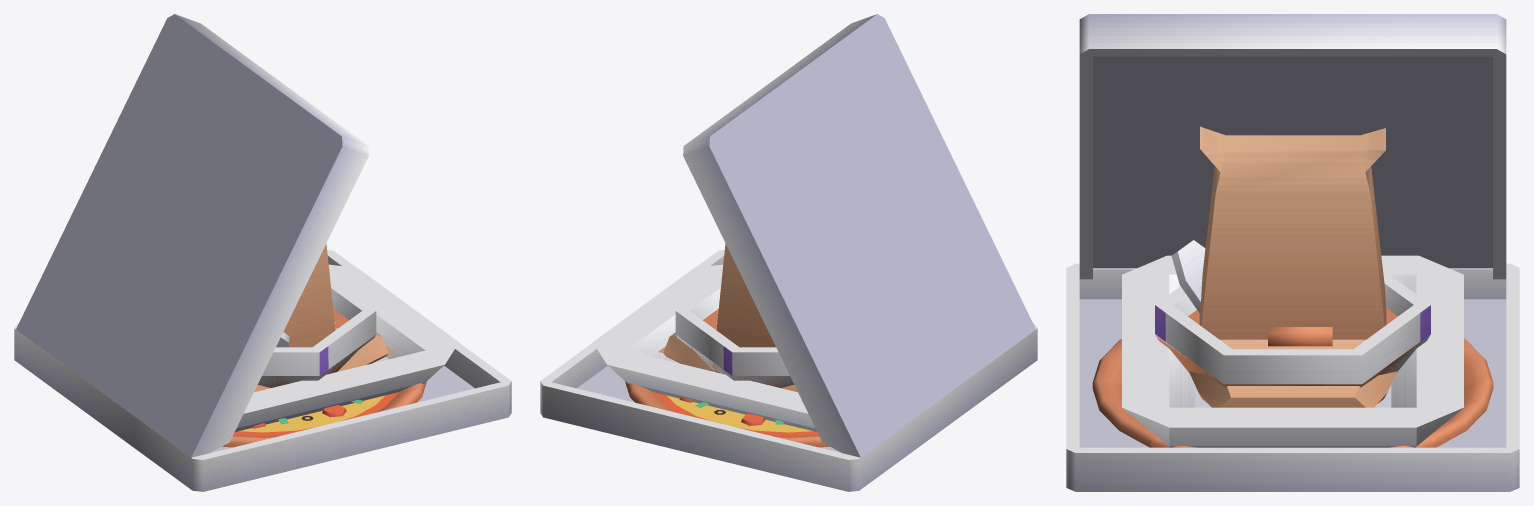
The model's file is food.glb.
3 views of the same model, side by side, from view 1: azimuth 30°, elevation 25°; view 2: azimuth 150°, elevation 25°; view 3: azimuth 270°, elevation 25° (orthographic). The views are drawn at different scales.
Parts seen in each view (by area): view 1: lid, pizza-box, plate-rectangle, bowl, bowl-soup, bag, slice6, slice7, bag-flat; view 2: lid, pizza-box, plate-rectangle, bowl, bowl-soup, bag, slice3, slice2, bag-flat; view 3: lid, pizza-box, bag, plate-rectangle, bowl-soup, bowl, bag-flat, bowl-broth, slice6, slice3, slice2, slice7.
Boxes of the visible parts, x1,y1,x2,y2 form: lid: (16,14,368,457); pizza-box: (14,250,511,491); plate-rectangle: (235,264,458,431); bowl: (258,277,376,387); bowl-soup: (258,288,372,387); bag: (283,243,335,347); slice6: (312,389,421,424); slice7: (222,413,326,447); bag-flat: (254,327,393,392); lid: (683,14,1035,457); pizza-box: (540,250,1037,491); plate-rectangle: (593,264,816,431); bowl: (675,277,793,387); bowl-soup: (677,278,793,387); bag: (716,243,775,347); slice3: (630,389,739,424); slice2: (725,413,829,447); bag-flat: (658,327,797,392); lid: (1079,14,1506,279); pizza-box: (1066,263,1519,491); bag: (1199,126,1386,339); plate-rectangle: (1122,255,1463,447); bowl-soup: (1156,284,1425,387); bowl: (1155,270,1430,387); bag-flat: (1189,339,1396,407); bowl-broth: (1155,240,1430,346); slice6: (1092,378,1156,447); slice3: (1429,378,1493,447); slice2: (1464,338,1493,385); slice7: (1092,338,1121,385).
Size of the model in its own units: 0.9418 by 0.8816 by 0.9518.
1 material, 1 textured.
